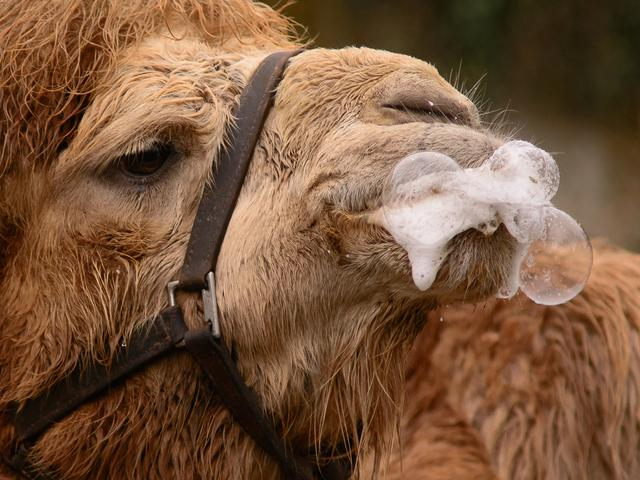camel: (44, 7, 611, 480)
